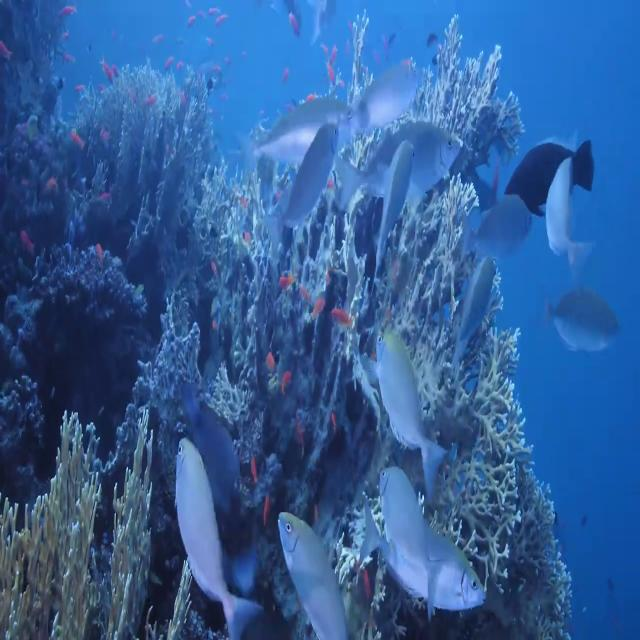fish: (166, 425, 268, 640), (372, 452, 464, 609), (373, 308, 451, 488), (262, 116, 347, 270), (338, 111, 469, 209), (379, 520, 491, 628), (276, 495, 355, 640), (500, 129, 601, 224), (250, 82, 350, 177), (185, 363, 249, 511), (442, 249, 505, 394), (363, 126, 421, 275), (340, 58, 434, 148), (538, 283, 622, 377), (527, 147, 595, 263), (461, 187, 541, 269)
